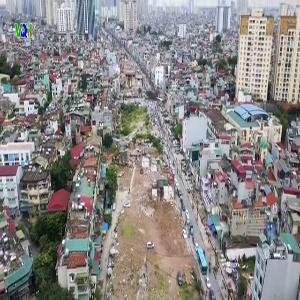drone: (122, 69, 184, 131)
